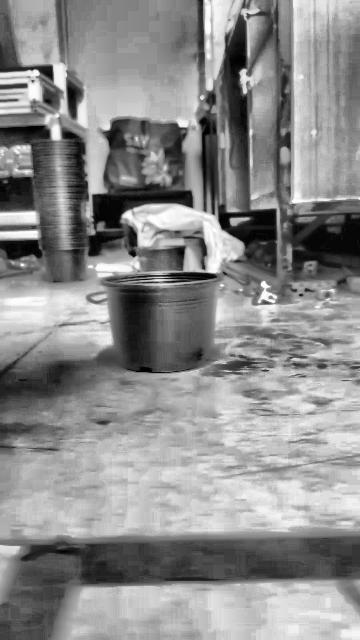pot: (100, 272, 222, 373)
